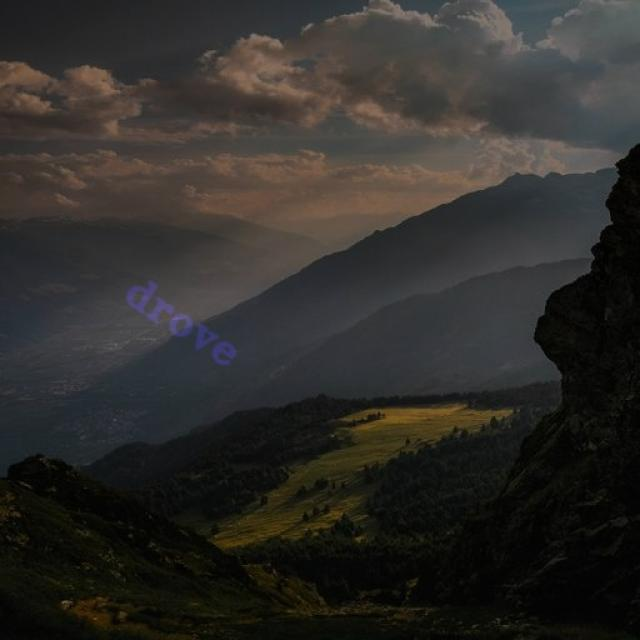watermark: (111, 266, 259, 376)
